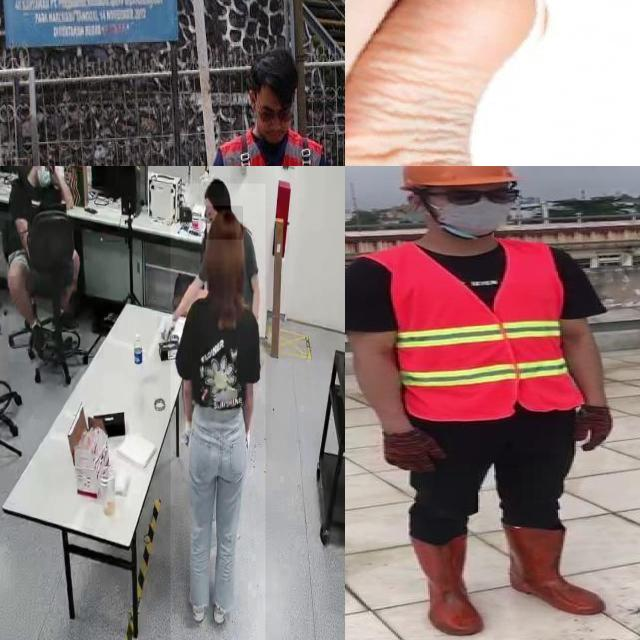Barefoots: (345, 0, 544, 166)
boots: (501, 522, 608, 616), (410, 533, 486, 635)
face_mask: (34, 166, 53, 189)
hand_glove: (157, 312, 177, 346)
hand_noglove: (52, 166, 62, 184)
head_helmet: (390, 166, 516, 192)
head_nohelmet: (206, 206, 244, 240), (203, 177, 230, 199)
person: (345, 166, 640, 640), (170, 183, 265, 640), (8, 166, 75, 363)
shoes: (30, 314, 46, 354)
vest: (391, 244, 579, 419)
